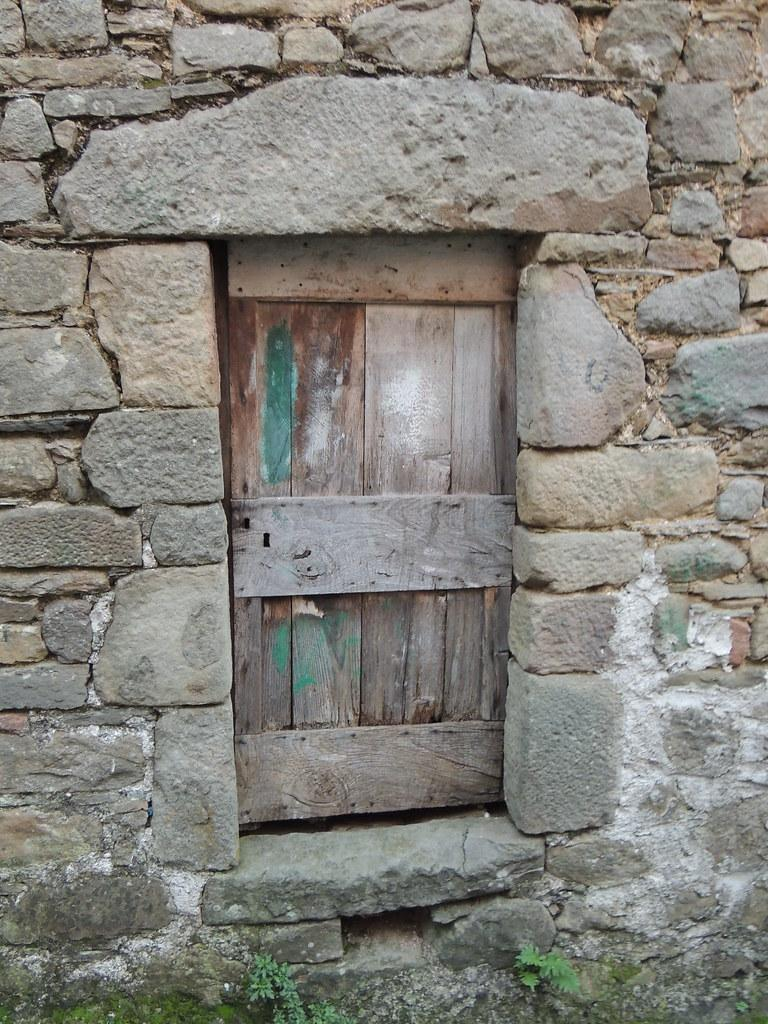door: (222, 234, 520, 829)
